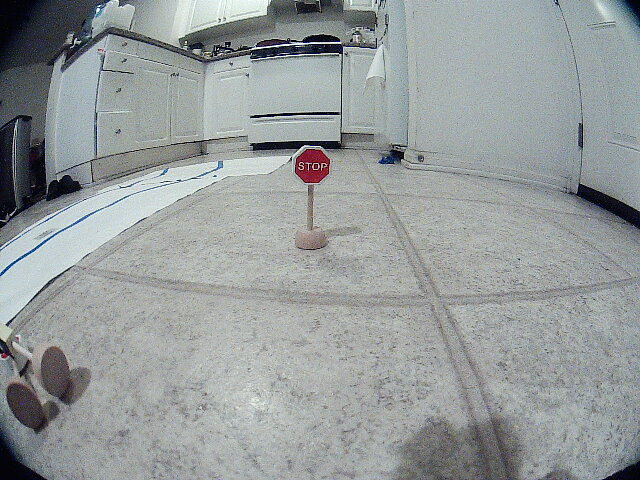Stop Sign: (267, 136, 355, 195)
